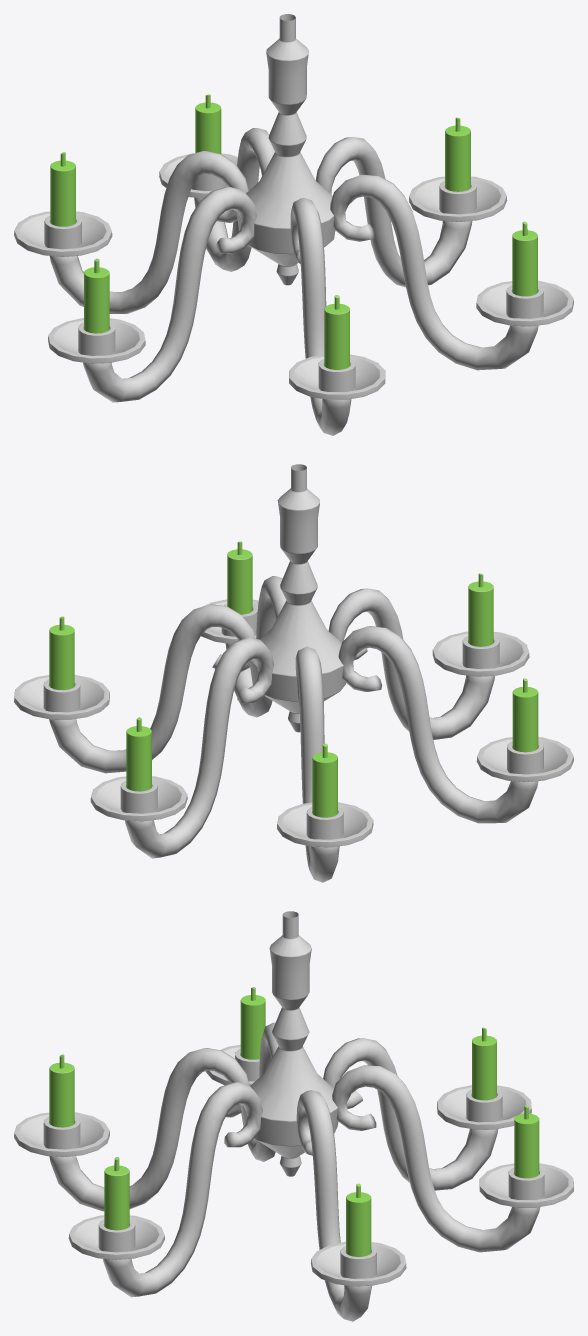
The model's file is chandelier.fbx.
The picture shows the model from 3 angles, top to bottom: view 1: azimuth 30°, elevation 25°; view 2: azimuth 150°, elevation 25°; view 3: azimuth 270°, elevation 25°; orthographic projection. The views are drawn at different scales.
Visible parts, largest first — view 1: shandelier; view 2: shandelier; view 3: shandelier.
Part boxes in pixels (left/top/right/bottom): shandelier: left=14, top=14, right=573, bottom=435; shandelier: left=14, top=464, right=573, bottom=882; shandelier: left=14, top=911, right=573, bottom=1321.
Bounding box in the file's own units: 85.23 × 53.85 × 84.56.
